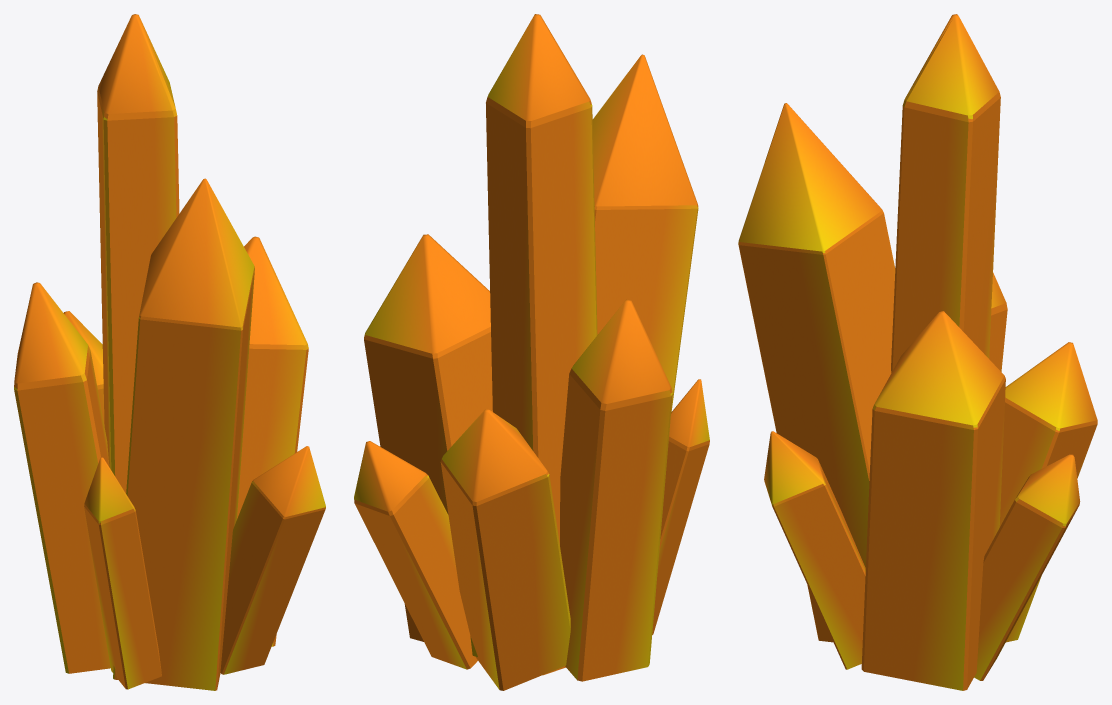
Rendered from crystalf.fbx.
The picture shows the model from 3 angles, left to right: view 1: azimuth 30°, elevation 25°; view 2: azimuth 150°, elevation 25°; view 3: azimuth 270°, elevation 25°; orthographic projection. The views are drawn at different scales.
Visible parts, largest first — view 1: CrystalCrack; view 2: CrystalCrack; view 3: CrystalCrack.
Part boxes in pixels (box(x1,y1,x2,y2)): CrystalCrack: box(14, 14, 325, 690); CrystalCrack: box(354, 14, 709, 690); CrystalCrack: box(738, 14, 1097, 690).
Bounding box in the file's own units: 23.69 × 50.45 × 26.36.
Materials: 2 (1 with a texture image).
